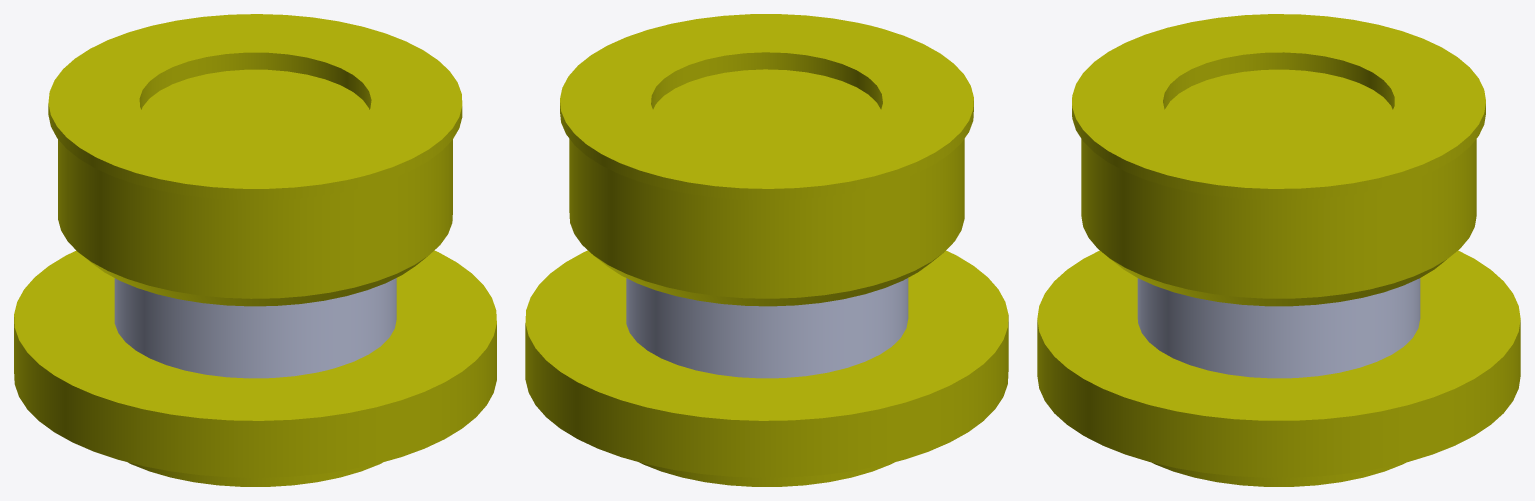
3 renders of one model, left to right at view 1: azimuth 30°, elevation 25°; view 2: azimuth 150°, elevation 25°; view 3: azimuth 270°, elevation 25°, orthographic.
Visible parts, largest first — view 1: Actor0; view 2: Actor0; view 3: Actor0.
Part boxes in pixels (box(x1,y1,x2,y2)): Actor0: box(14, 14, 496, 486); Actor0: box(525, 14, 1008, 486); Actor0: box(1037, 14, 1520, 486).
Size of the model in its own units: 0.0768 by 0.0552 by 0.077.
